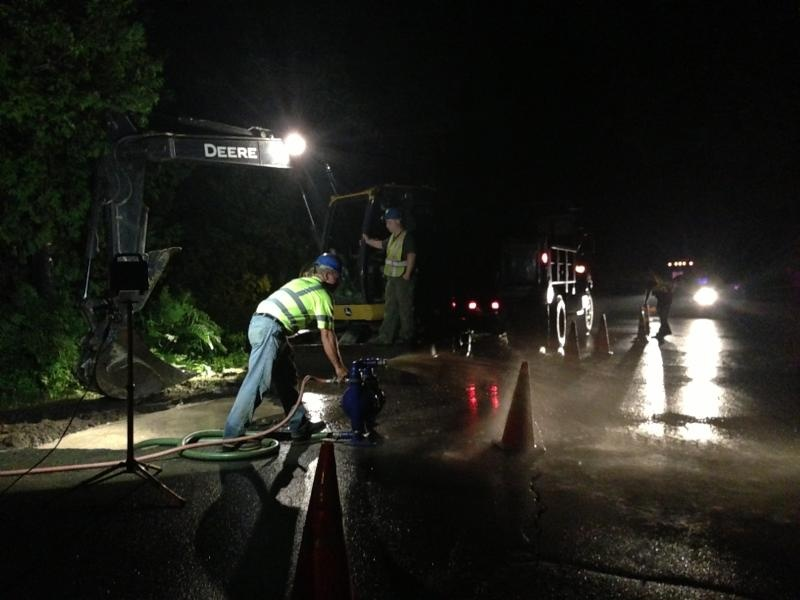blue: (312, 249, 343, 288), (380, 204, 404, 235)
